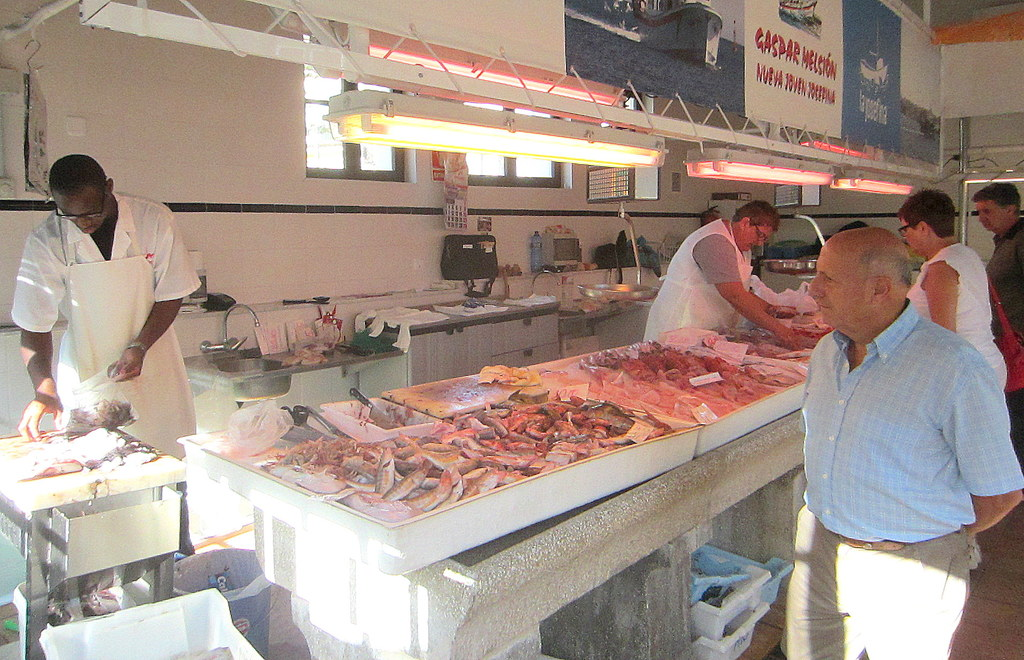Person: (896, 187, 1012, 427), (641, 199, 790, 341)
